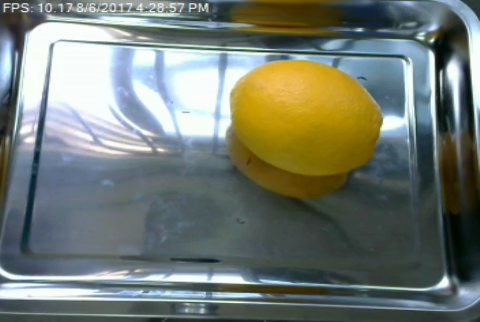Orange: (230, 60, 385, 175)
